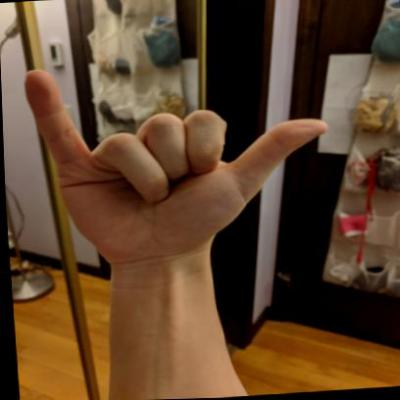hand: (19, 51, 340, 270)
